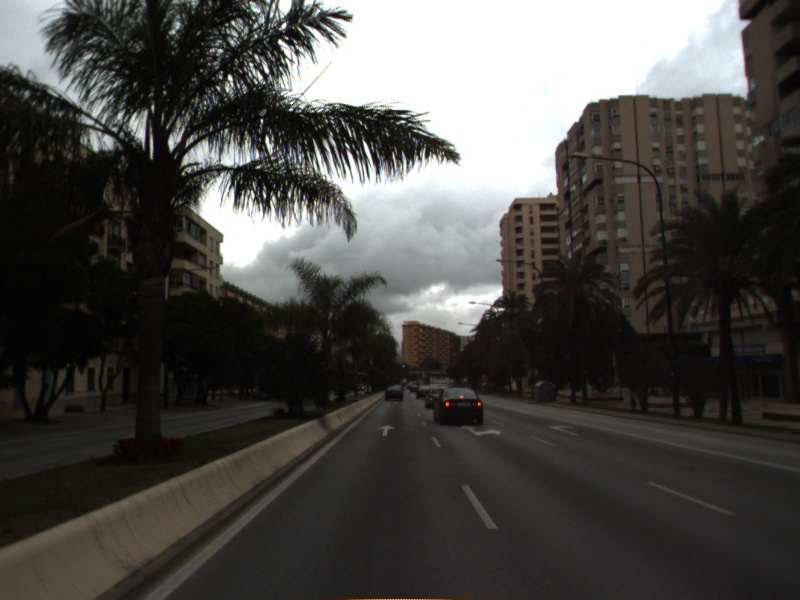RIGHT: (546, 422, 580, 438)
STRAIGHT: (376, 422, 398, 438)
STRAIGHT_RIGHT: (458, 423, 504, 438)
